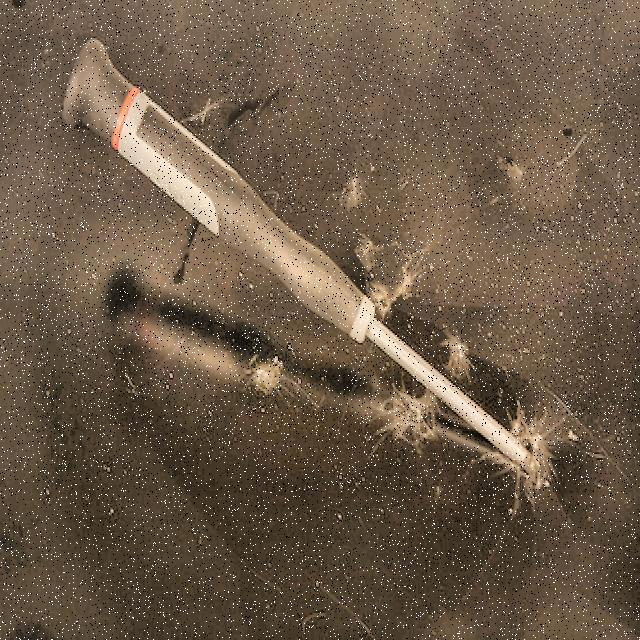screwdriver: (63, 41, 543, 480)
